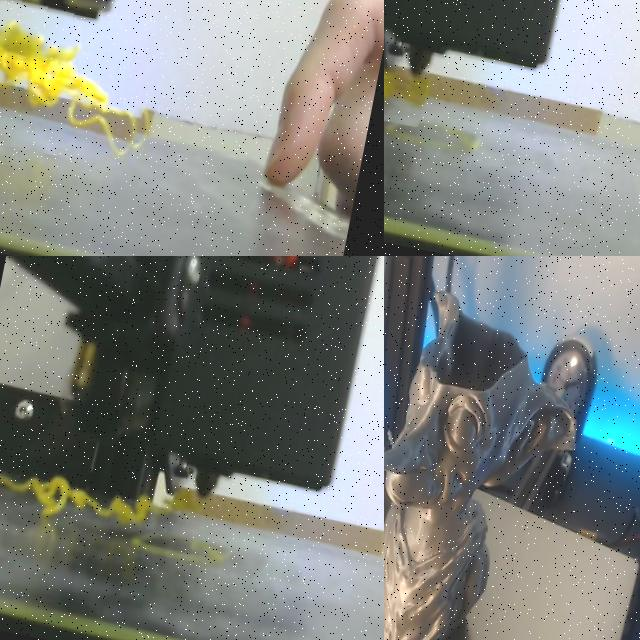spaghetti: (0, 23, 143, 155), (0, 472, 154, 524), (171, 489, 204, 513)
